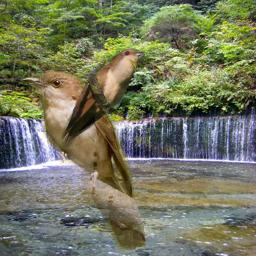Cuckoo: (18, 67, 147, 253), (58, 48, 145, 150)
